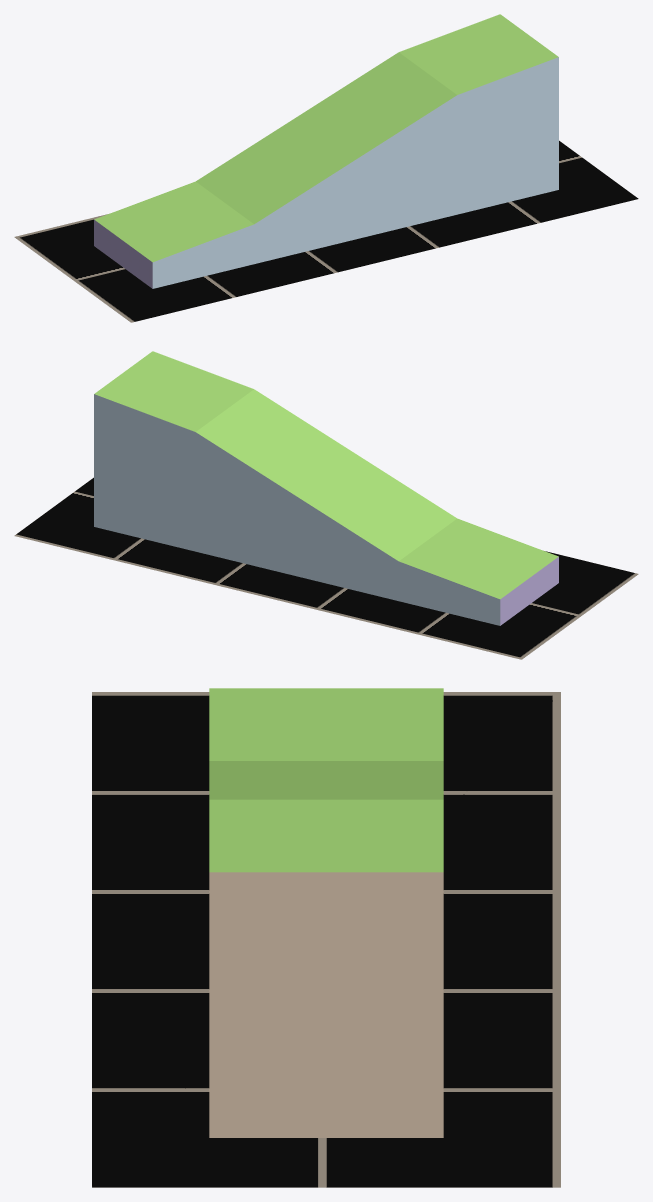
File: Grass_Hill_Gentle_Straight_1x4.glb
3 renders of one model, top to bottom at view 1: azimuth 30°, elevation 25°; view 2: azimuth 150°, elevation 25°; view 3: azimuth 270°, elevation 25°, orthographic. The views are drawn at different scales.
Parts seen in each view (by area): view 1: Grass_Hill_Gentle_Straight_1x4, Floor; view 2: Grass_Hill_Gentle_Straight_1x4, Floor; view 3: Floor, Grass_Hill_Gentle_Straight_1x4.
Part boxes in pixels (bbox=[...]): Grass_Hill_Gentle_Straight_1x4: bbox=[94, 14, 558, 288]; Floor: bbox=[14, 140, 638, 322]; Grass_Hill_Gentle_Straight_1x4: bbox=[94, 351, 558, 625]; Floor: bbox=[14, 477, 638, 659]; Floor: bbox=[92, 692, 560, 1187]; Grass_Hill_Gentle_Straight_1x4: bbox=[209, 688, 443, 1137].
Size of the model in its own units: 500 by 125 by 200.
6 materials, 1 textured.
